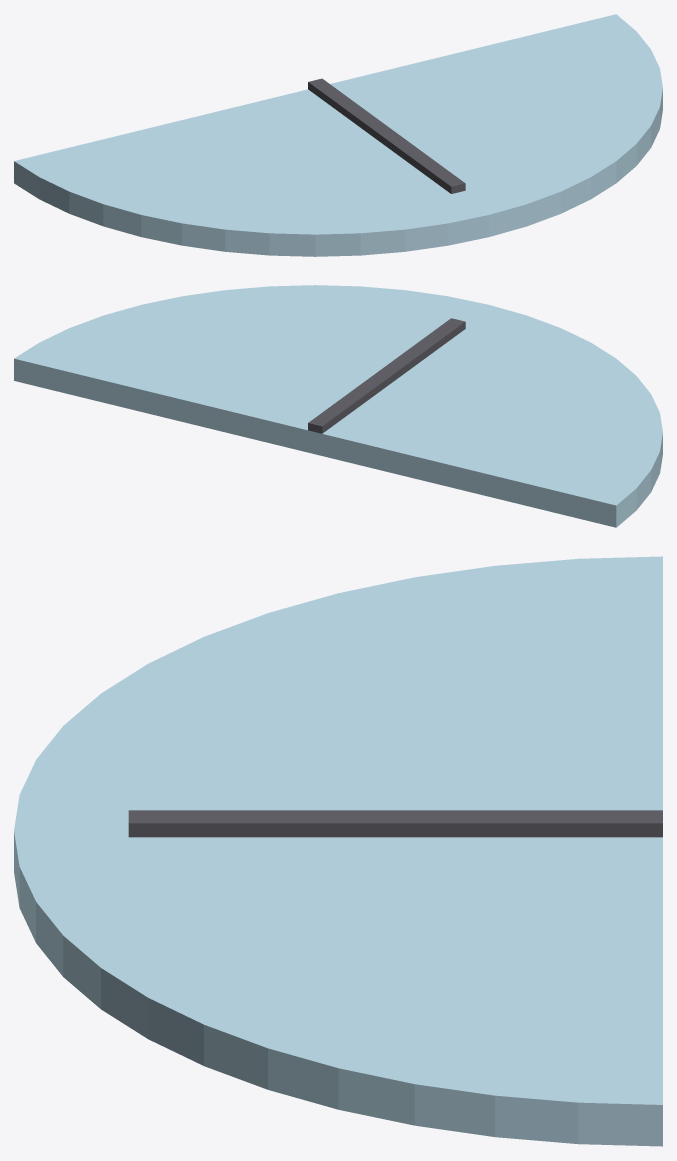
Rendered from protractor.glb.
3 views of the same model, one above another, from view 1: azimuth 30°, elevation 25°; view 2: azimuth 150°, elevation 25°; view 3: azimuth 270°, elevation 25° (orthographic). The views are drawn at different scales.
Visible parts, largest first — view 1: protractor; view 2: protractor; view 3: protractor.
Part boxes in pixels (<box>): protractor: <box>14,14,662,256</box>; protractor: <box>14,285,662,527</box>; protractor: <box>14,556,662,1146</box>.
Size of the model in its own units: 0.17 by 0.008 by 0.085.
